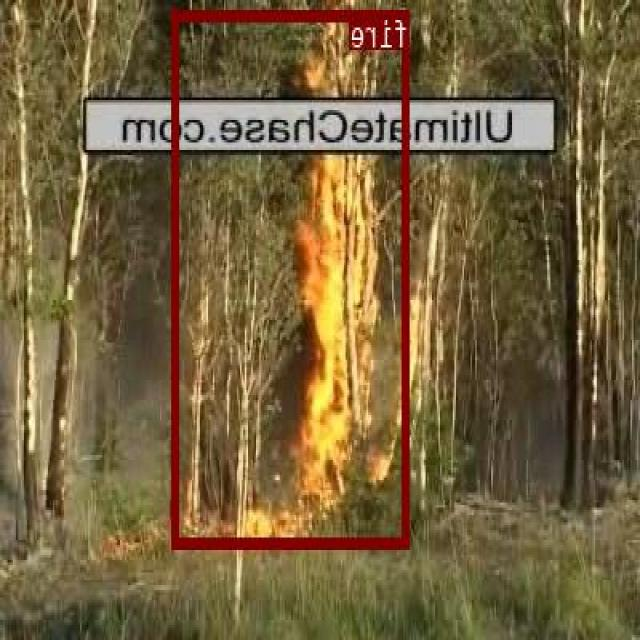fire: (173, 9, 411, 546)
